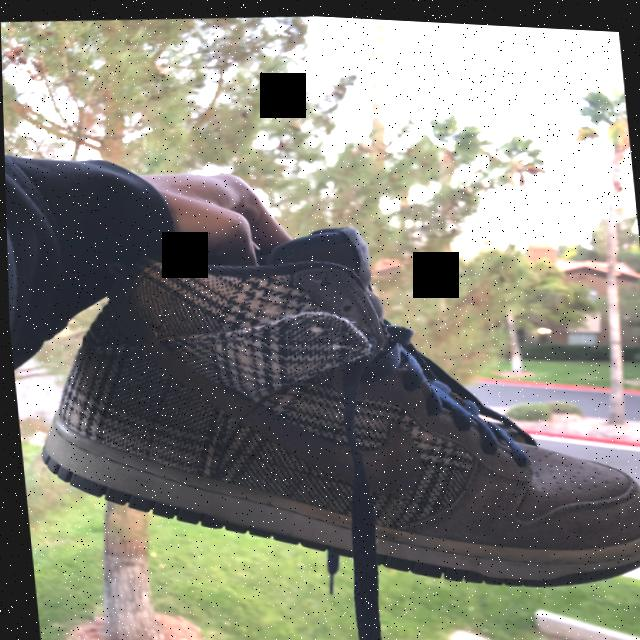shoes: (4, 178, 640, 625)
